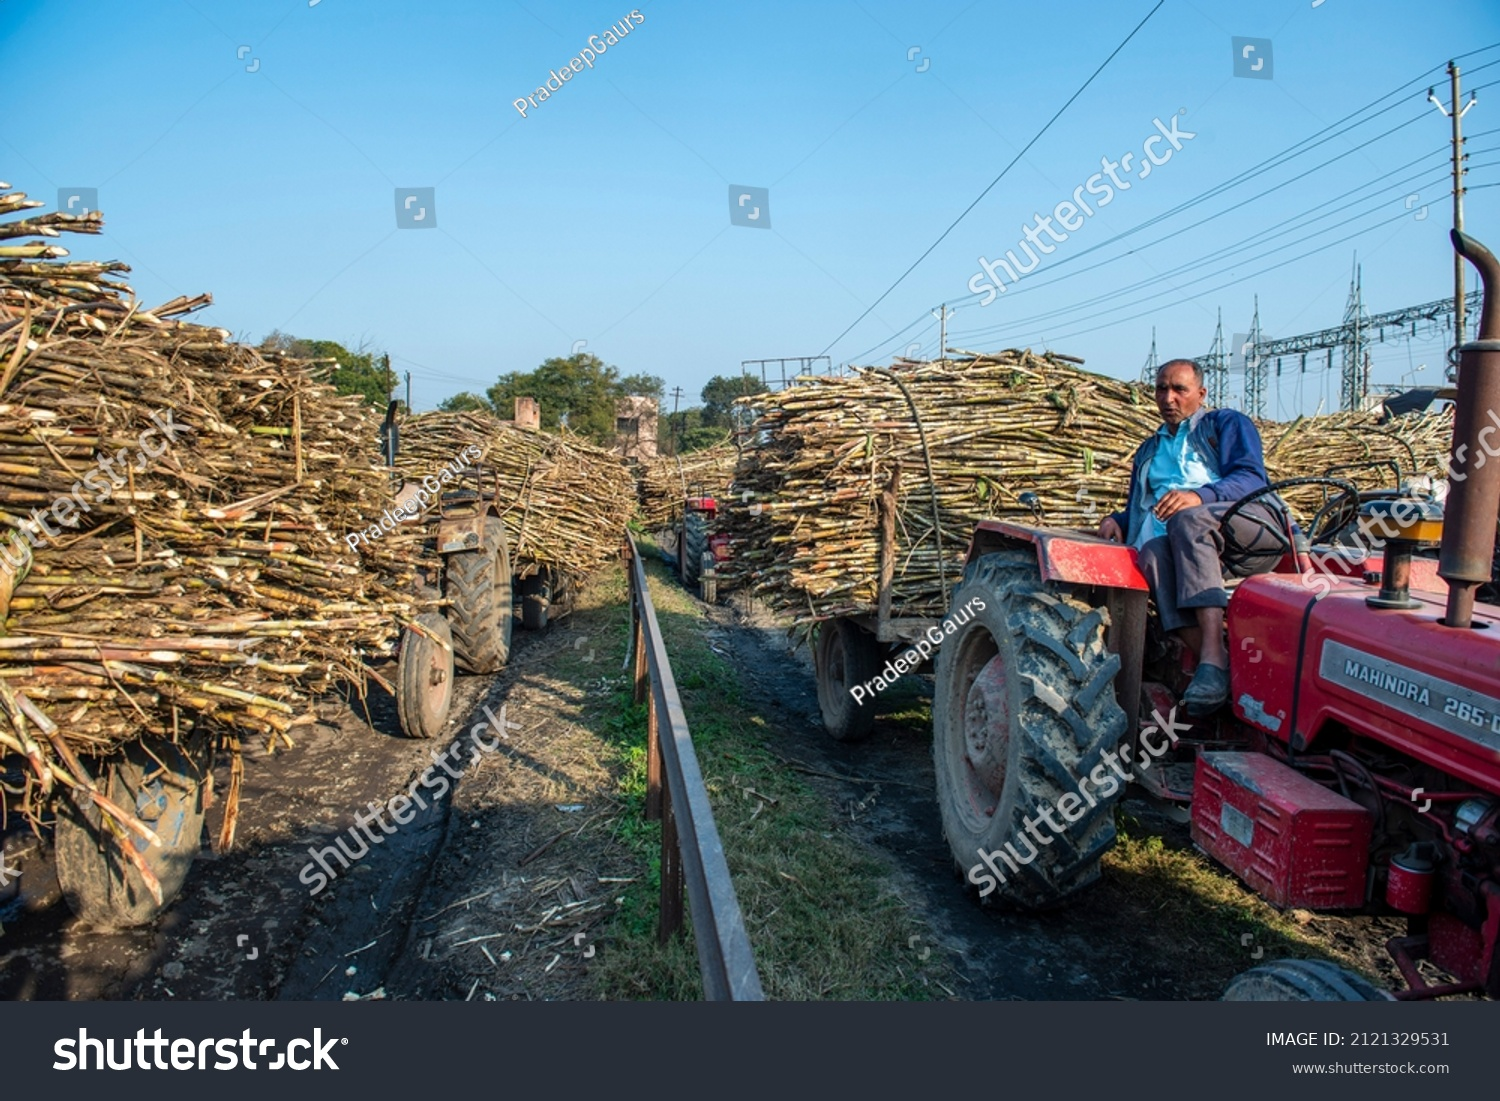wheel: (878, 545, 1170, 950), (41, 751, 205, 932), (441, 510, 518, 684), (391, 604, 461, 757), (808, 611, 873, 755), (679, 510, 703, 581)
